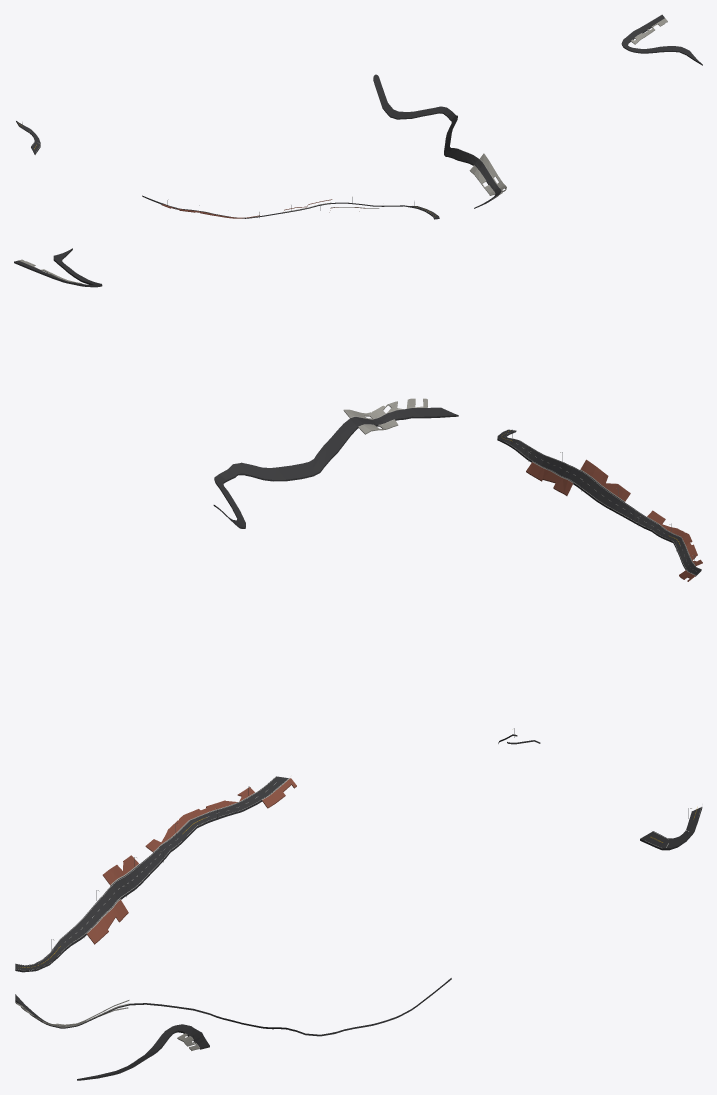
Rendered from 16-54733-29740.74431fdd.glb.
The picture shows the model from 3 angles, top to bottom: view 1: azimuth 30°, elevation 25°; view 2: azimuth 150°, elevation 25°; view 3: azimuth 270°, elevation 25°; orthographic projection. The views are drawn at different scales.
Bounding box in the file's own units: 589 × 132 × 433.
